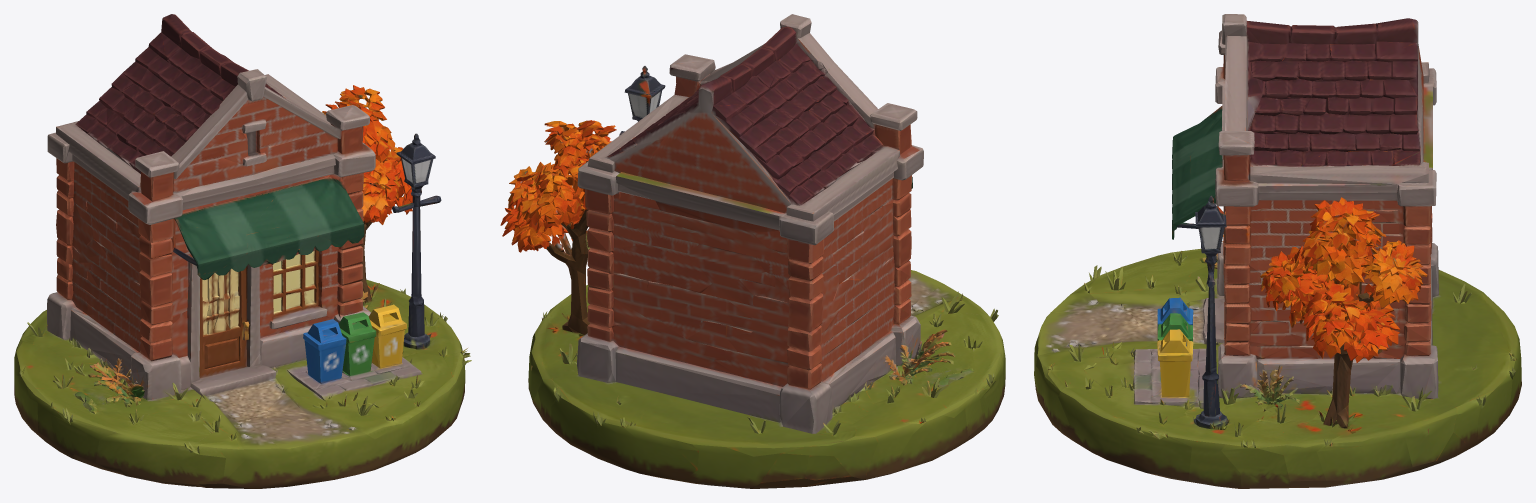
File: campus.glb
3 renders of one model, left to right at view 1: azimuth 30°, elevation 25°; view 2: azimuth 150°, elevation 25°; view 3: azimuth 270°, elevation 25°, orthographic. The views are drawn at different scales.
Bounding box in the file's own units: 1.9 × 1.52 × 1.83.
1 material, 1 textured.
